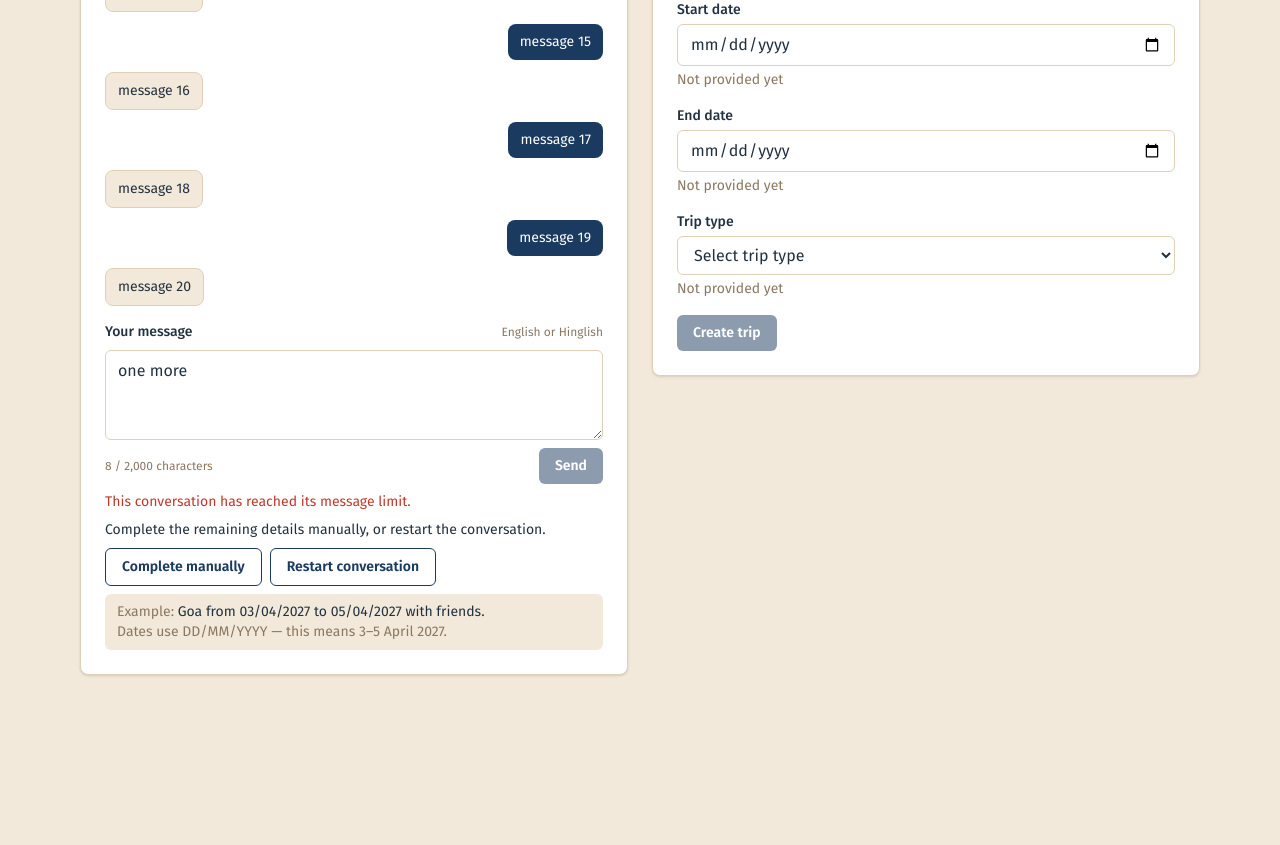
Test: TripChat — limits › at the conversation limit offers manual completion or restart without truncating
(page scrolled)
Expected: the text "This conversation has reached its message limit." is shown, [105,493,411,510]
Expected: the button "Send" is disabled, [539,448,603,484]
Press Enter in the text box labelled "Your message", box [105,350,603,440]
Expected: the button "Complete manually" is shown, [105,548,262,586]
Click the button "Restart conversation" at (353,567), box [270,548,436,586]
(page scrolled)
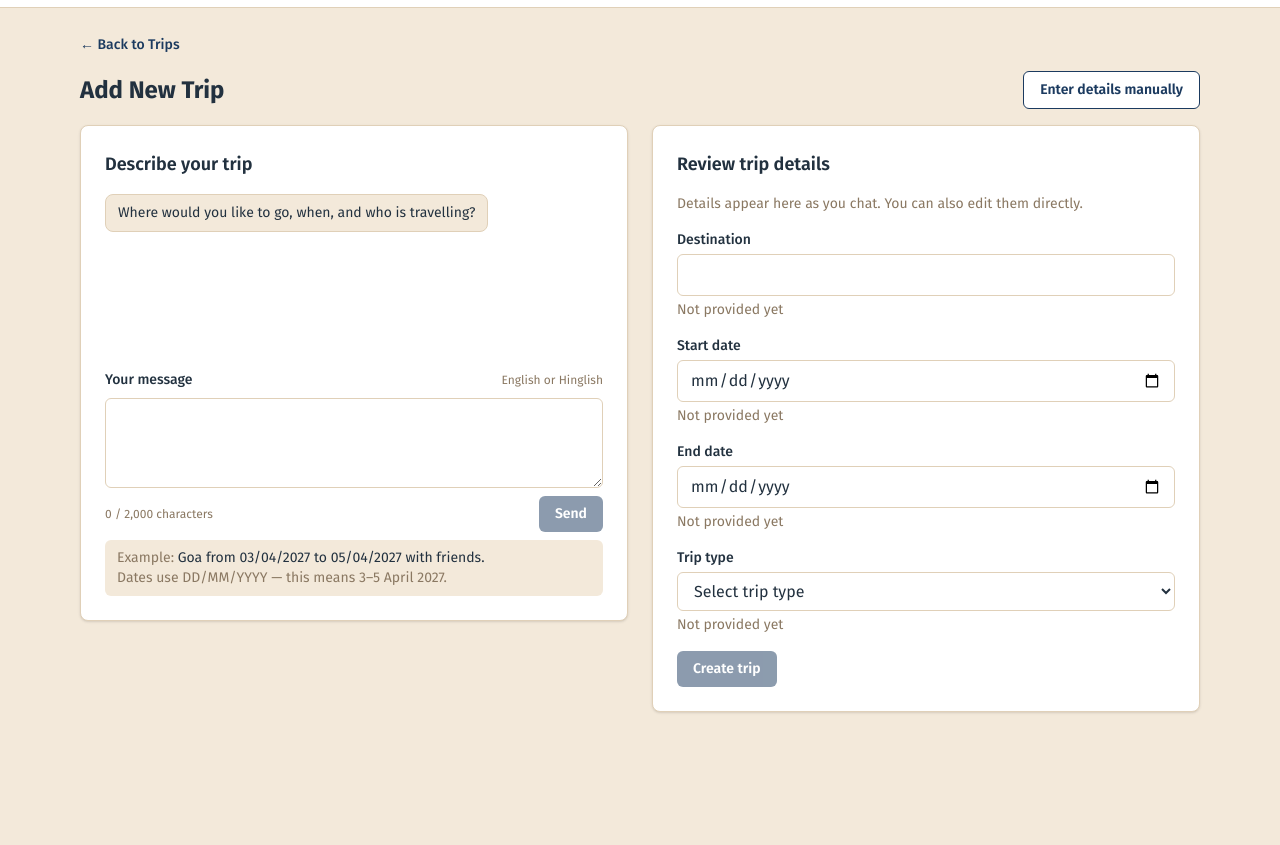
Expected: the text "This conversation has reached its message limit." is gone
